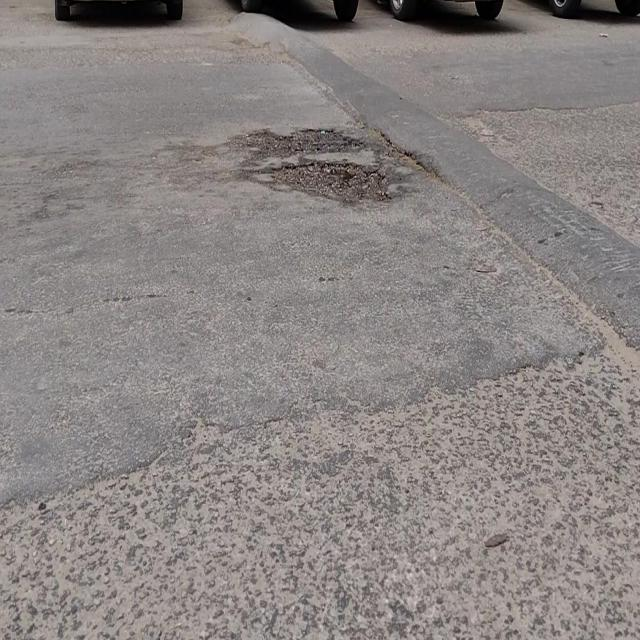Potholes: (236, 119, 391, 207)
